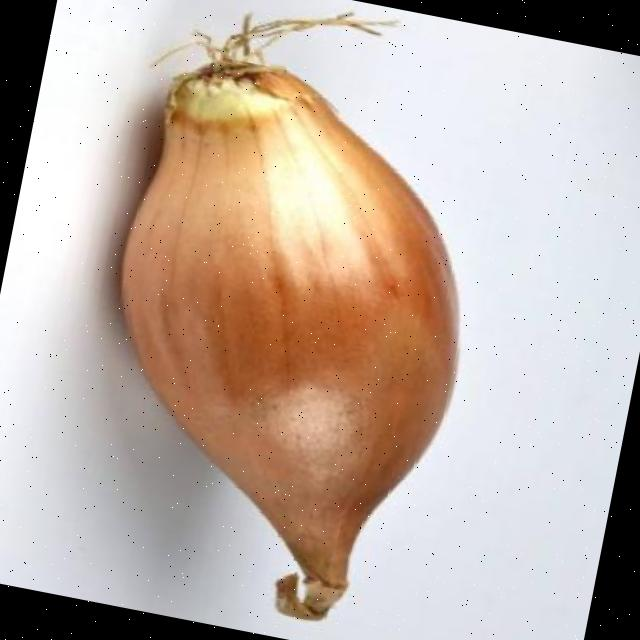Onion: (120, 62, 457, 622)
